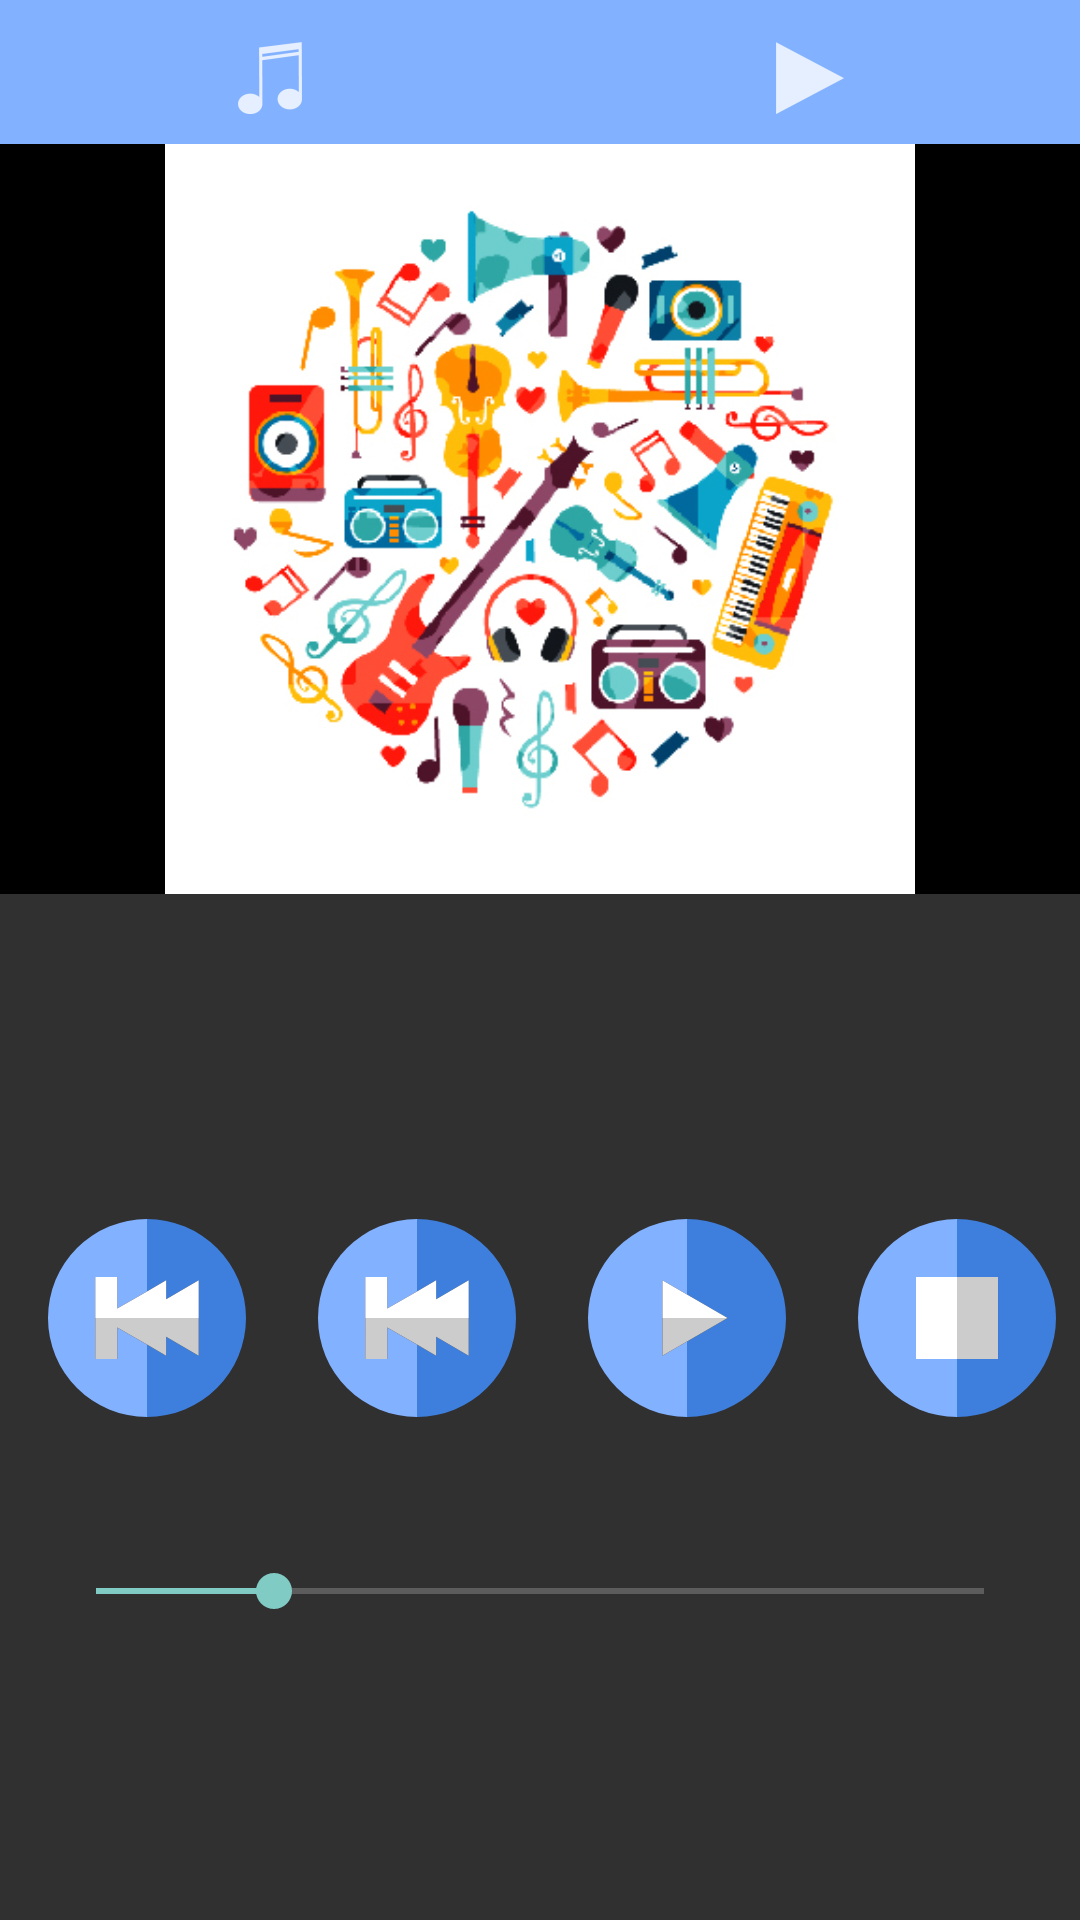

Named icons in this screenshot (1080×1920) and their centers, point (x, y):
Play button: point (687, 1318)
Stop button: point (957, 1318)
